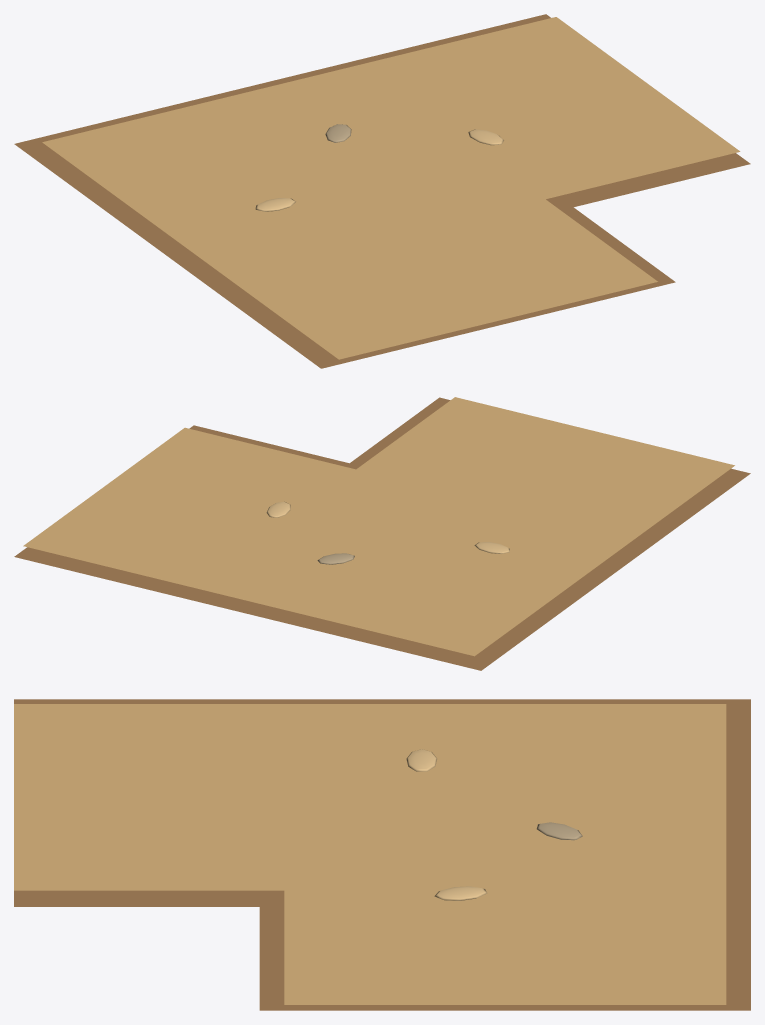
The model's file is road-turn.glb.
3 views of the same model, one above another, from view 1: azimuth 30°, elevation 25°; view 2: azimuth 150°, elevation 25°; view 3: azimuth 270°, elevation 25° (orthographic). The views are drawn at different scales.
Parts seen in each view (by area): view 1: road-turn_dirt, road-turn_dirtEdge, road-turn_dirtLight; view 2: road-turn_dirt, road-turn_dirtEdge, road-turn_dirtLight; view 3: road-turn_dirt, road-turn_dirtEdge, road-turn_dirtLight, road-turn_pebble.
Part boxes in pixels (x1,y1,x2,y2): road-turn_dirt: [42, 17, 740, 359]; road-turn_dirtEdge: [14, 14, 750, 368]; road-turn_dirtLight: [255, 129, 503, 211]; road-turn_dirt: [23, 397, 734, 656]; road-turn_dirtEdge: [14, 397, 750, 670]; road-turn_dirtLight: [266, 501, 509, 553]; road-turn_dirt: [14, 704, 726, 1004]; road-turn_dirtEdge: [14, 699, 750, 1010]; road-turn_dirtLight: [406, 749, 487, 900]; road-turn_pebble: [536, 822, 582, 840].
Size of the model in its own units: 1.5 by 0.0314 by 1.5.
